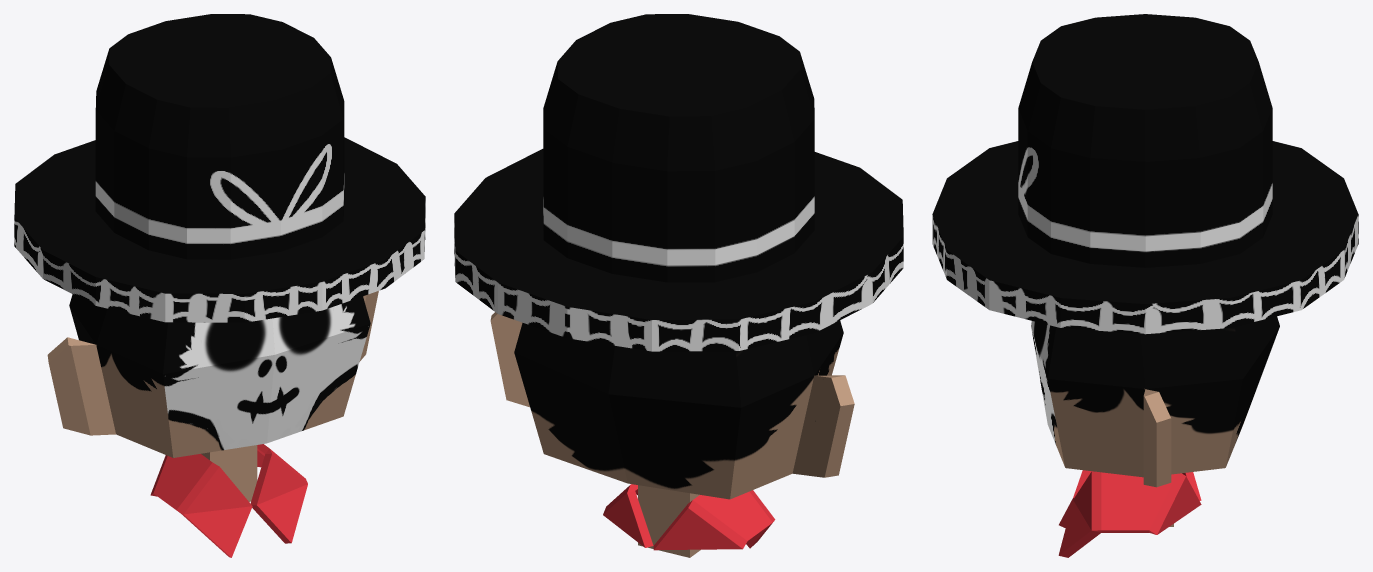
Rendered from catrin.glb.
3 renders of one model, left to right at view 1: azimuth 30°, elevation 25°; view 2: azimuth 150°, elevation 25°; view 3: azimuth 270°, elevation 25°, orthographic. The views are drawn at different scales.
Visible parts, largest first — view 1: Plane.002, Plane, Plane.003, Plane.001; view 2: Plane.002, Plane, Plane.003, Plane.001; view 3: Plane.002, Plane, Plane.003.
Part boxes in pixels (bbox=[...]): Plane.002: bbox=[14, 14, 425, 322]; Plane: bbox=[47, 291, 378, 457]; Plane.003: bbox=[150, 444, 307, 557]; Plane.001: bbox=[201, 445, 257, 501]; Plane.002: bbox=[454, 14, 903, 351]; Plane: bbox=[490, 312, 854, 499]; Plane.003: bbox=[603, 484, 775, 550]; Plane.001: bbox=[638, 485, 700, 557]; Plane.002: bbox=[932, 14, 1358, 334]; Plane: bbox=[1031, 316, 1279, 487]; Plane.003: bbox=[1058, 470, 1201, 557].
Bounding box in the file's own units: 1.96 × 2.45 × 1.96.
4 materials, 2 textured.
